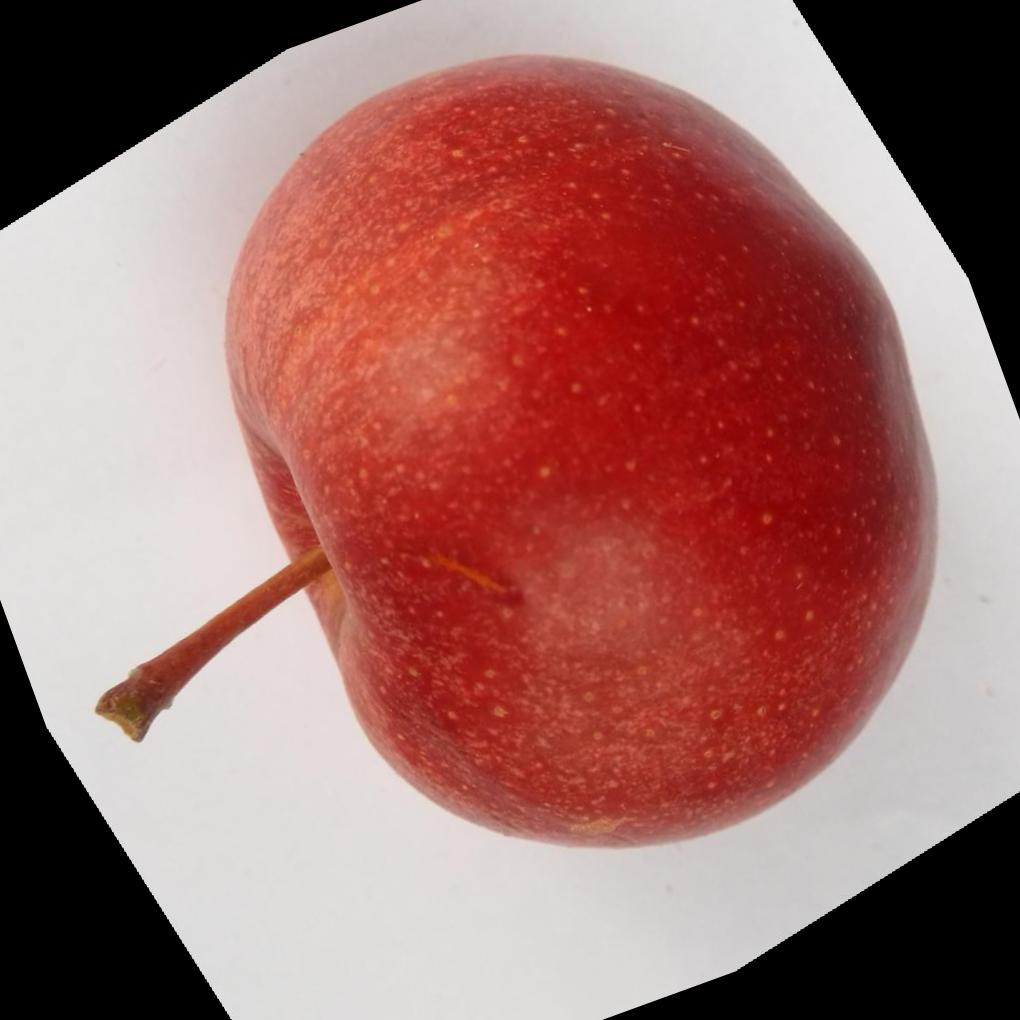FreshGuava: (105, 53, 941, 856)
